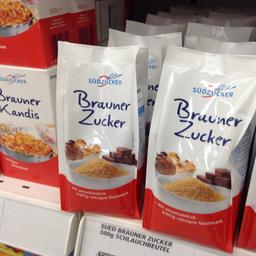sugar: (142, 44, 255, 252), (52, 38, 142, 220), (0, 64, 56, 189)
